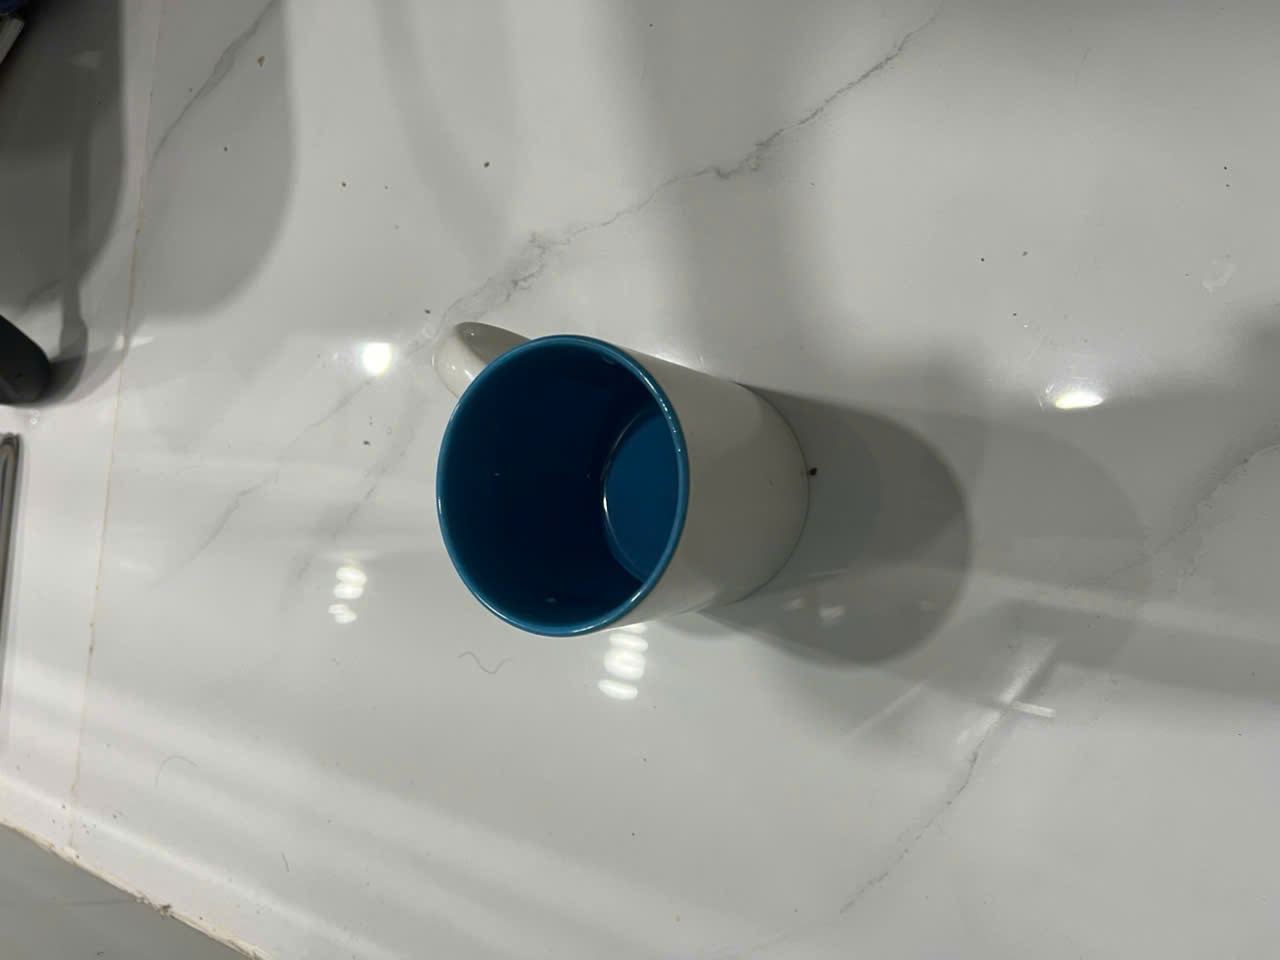ly coc: (400, 322, 816, 662)
